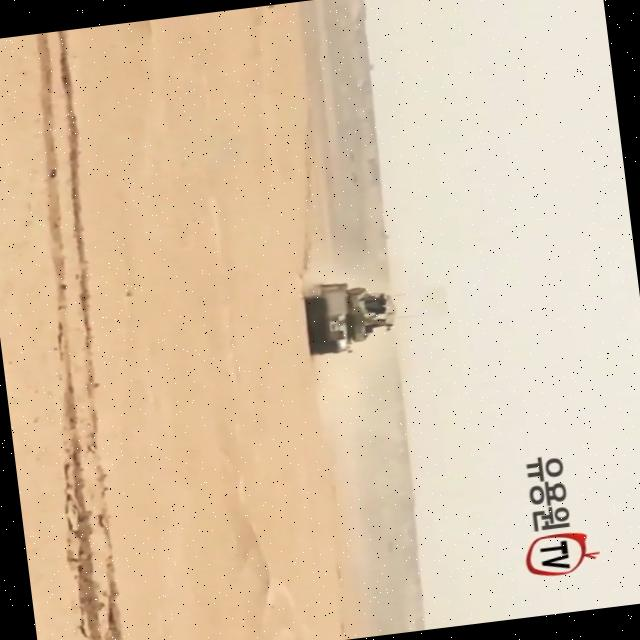korea tank: (298, 272, 402, 358)
